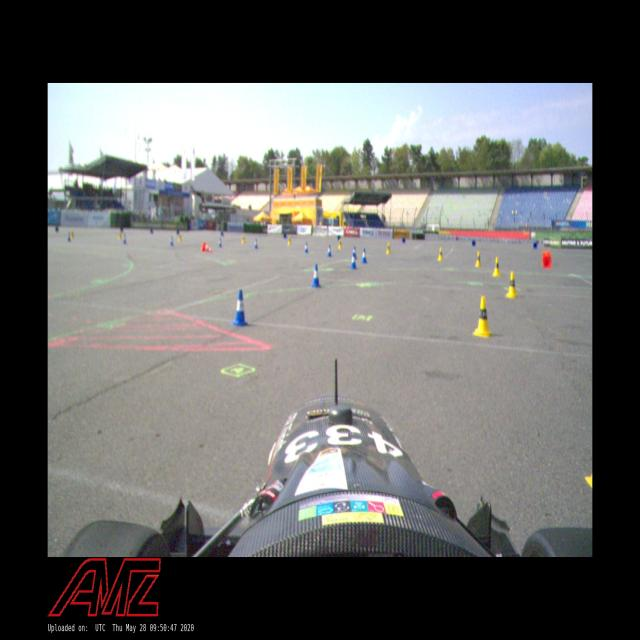blue_cone: (232, 288, 248, 327), (311, 264, 321, 288), (350, 252, 357, 270), (361, 248, 367, 264), (352, 246, 358, 260), (303, 242, 309, 254), (327, 244, 332, 257), (253, 238, 258, 250), (169, 236, 174, 246), (218, 236, 222, 248), (123, 234, 127, 245), (67, 232, 71, 242)
orange_cone: (542, 251, 552, 269), (202, 241, 213, 253)
yellow_cone: (472, 295, 492, 338), (505, 270, 519, 298), (492, 257, 502, 277), (474, 251, 482, 268), (436, 246, 444, 261), (386, 241, 391, 255), (287, 236, 292, 246), (338, 238, 342, 250), (118, 231, 122, 240), (178, 233, 182, 242), (241, 234, 245, 243), (71, 229, 74, 239)
